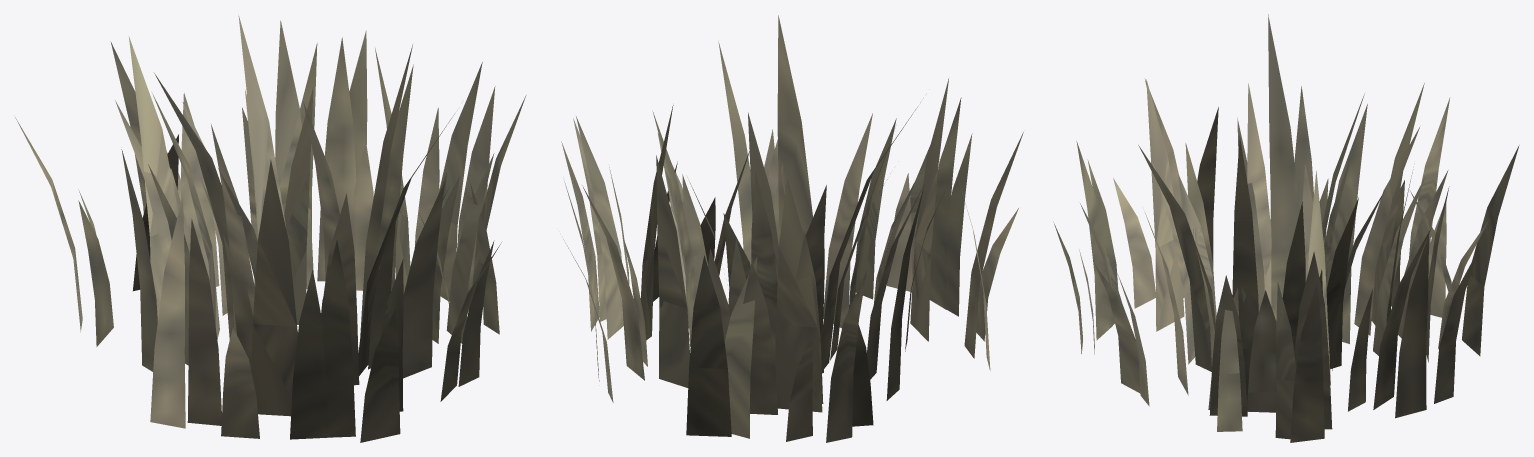
Rendered from grass_tuft_dry_03.glb.
3 renders of one model, left to right at view 1: azimuth 30°, elevation 25°; view 2: azimuth 150°, elevation 25°; view 3: azimuth 270°, elevation 25°, orthographic. The views are drawn at different scales.
Visible parts, largest first — view 1: grass_tuft_dry_03; view 2: grass_tuft_dry_03; view 3: grass_tuft_dry_03.
Boxes of the visible parts, box(x1,y1,x2,y2) form: grass_tuft_dry_03: box(15, 15, 526, 442); grass_tuft_dry_03: box(561, 15, 1023, 442); grass_tuft_dry_03: box(1053, 14, 1519, 442).
Bounding box in the file's own units: 0.3614 × 0.2662 × 0.3997.
1 material, 1 textured.
